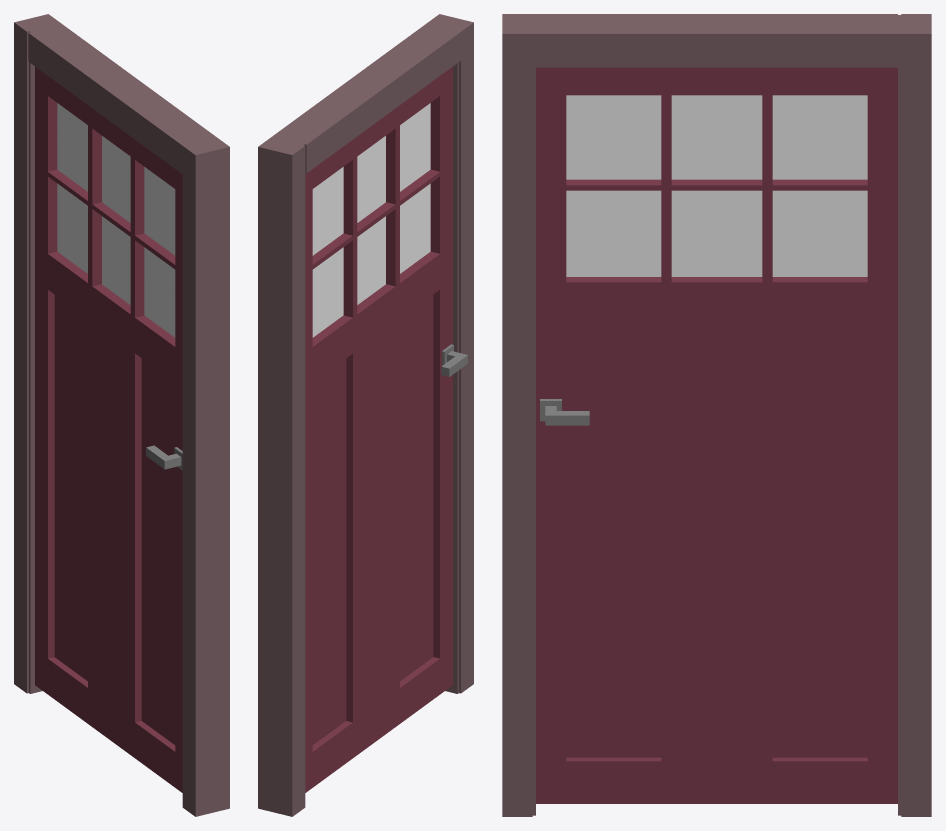
The model's file is door.fbx.
3 views of the same model, side by side, from view 1: azimuth 30°, elevation 25°; view 2: azimuth 150°, elevation 25°; view 3: azimuth 270°, elevation 25° (orthographic). The views are drawn at different scales.
Parts seen in each view (by area): view 1: pCube1, pCube2, pCube4, pCube3; view 2: pCube1, pCube2, pCube4, pCube3; view 3: pCube1, pCube2, pCube4, pasted__pCube3.
Part boxes in pixels (<box>): pCube1: <box>35,66,182,792</box>; pCube2: <box>14,14,229,816</box>; pCube4: <box>57,103,175,337</box>; pCube3: <box>146,445,182,470</box>; pCube1: <box>305,66,452,792</box>; pCube2: <box>258,14,473,816</box>; pCube4: <box>312,103,430,337</box>; pCube3: <box>441,344,467,376</box>; pCube1: <box>536,67,897,803</box>; pCube2: <box>502,14,931,816</box>; pCube4: <box>566,95,867,276</box>; pasted__pCube3: <box>540,399,589,425</box>.
Bounding box in the file's own units: 0.2174 × 2.29 × 1.14.
